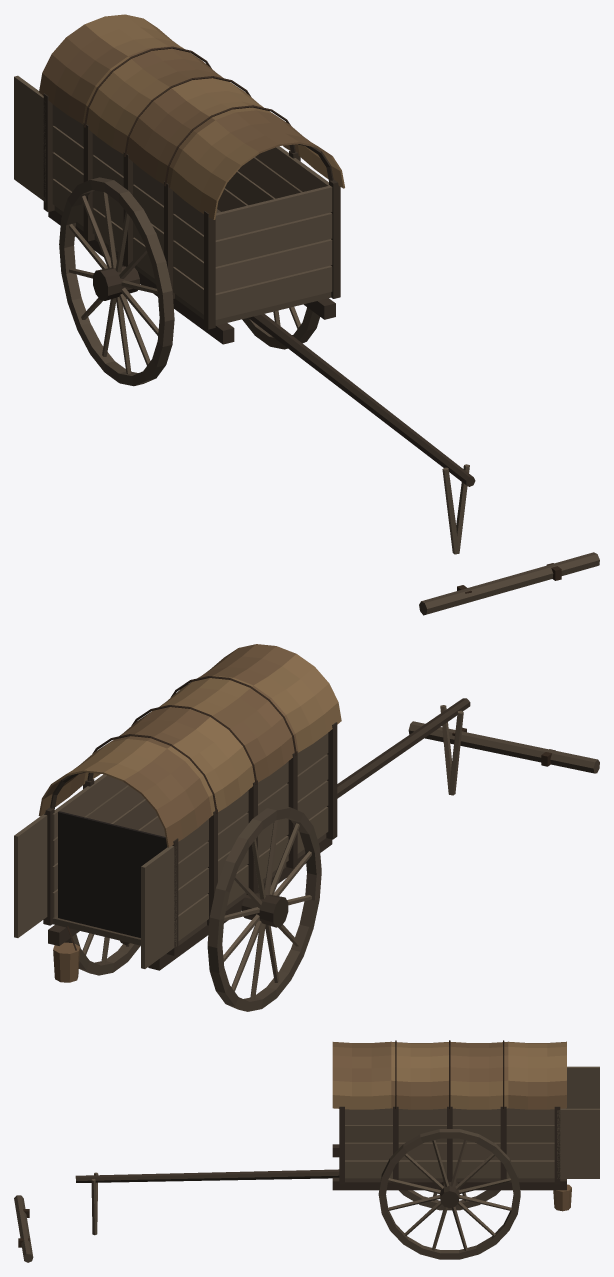
The model's file is carreta.glb.
3 renders of one model, top to bottom at view 1: azimuth 30°, elevation 25°; view 2: azimuth 150°, elevation 25°; view 3: azimuth 270°, elevation 25°, orthographic. The views are drawn at different scales.
Parts seen in each view (by area): view 1: Carreta; view 2: Carreta; view 3: Carreta.
Boxes of the visible parts, box(x1,y1,x2,y2) form: Carreta: box(14, 14, 599, 615); Carreta: box(14, 644, 599, 1011); Carreta: box(14, 1040, 599, 1262).
Size of what is drawn, in the model's own units: 2.24 by 3.29 by 9.25.
